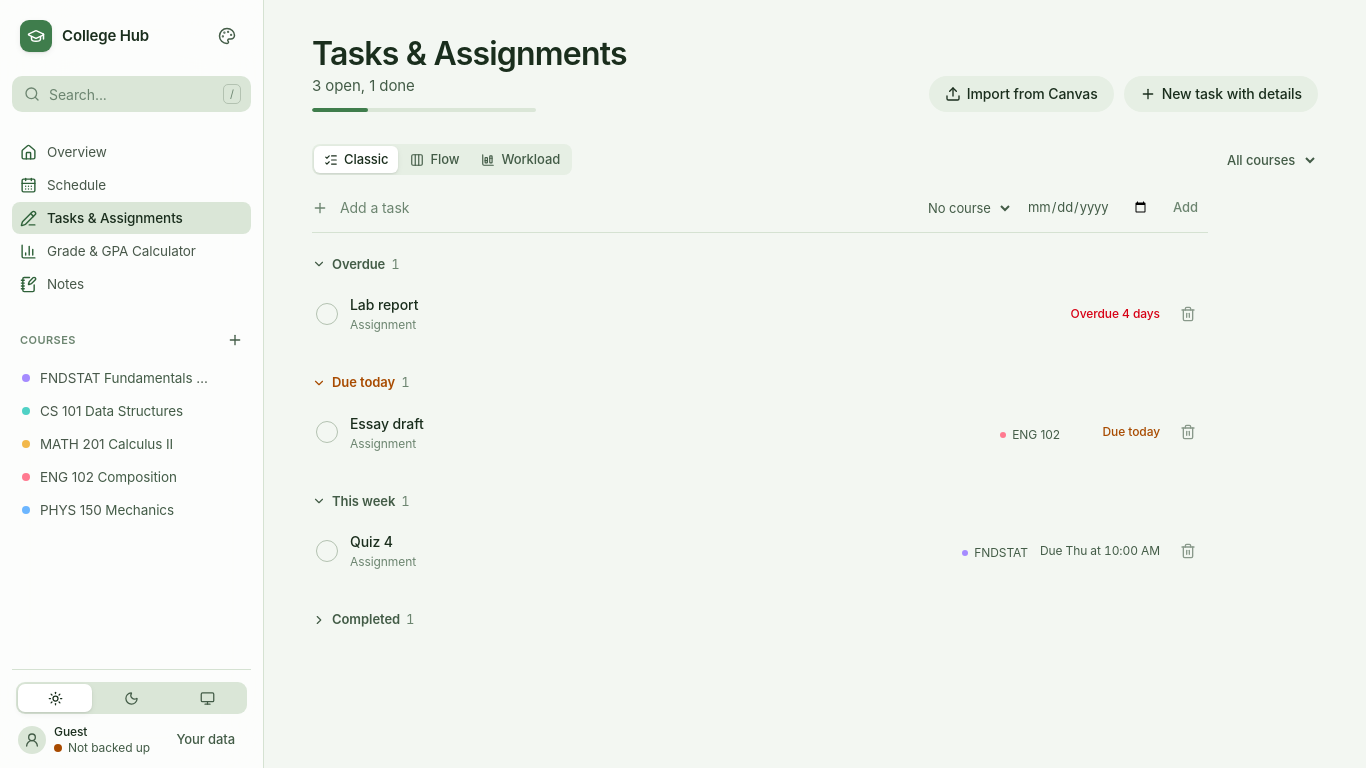
Test: choosing a mode › offers Flow to a guest and remembers the choice
Click the radio button labelled "Flow".
click(435, 160)  # box [400, 146, 469, 173]
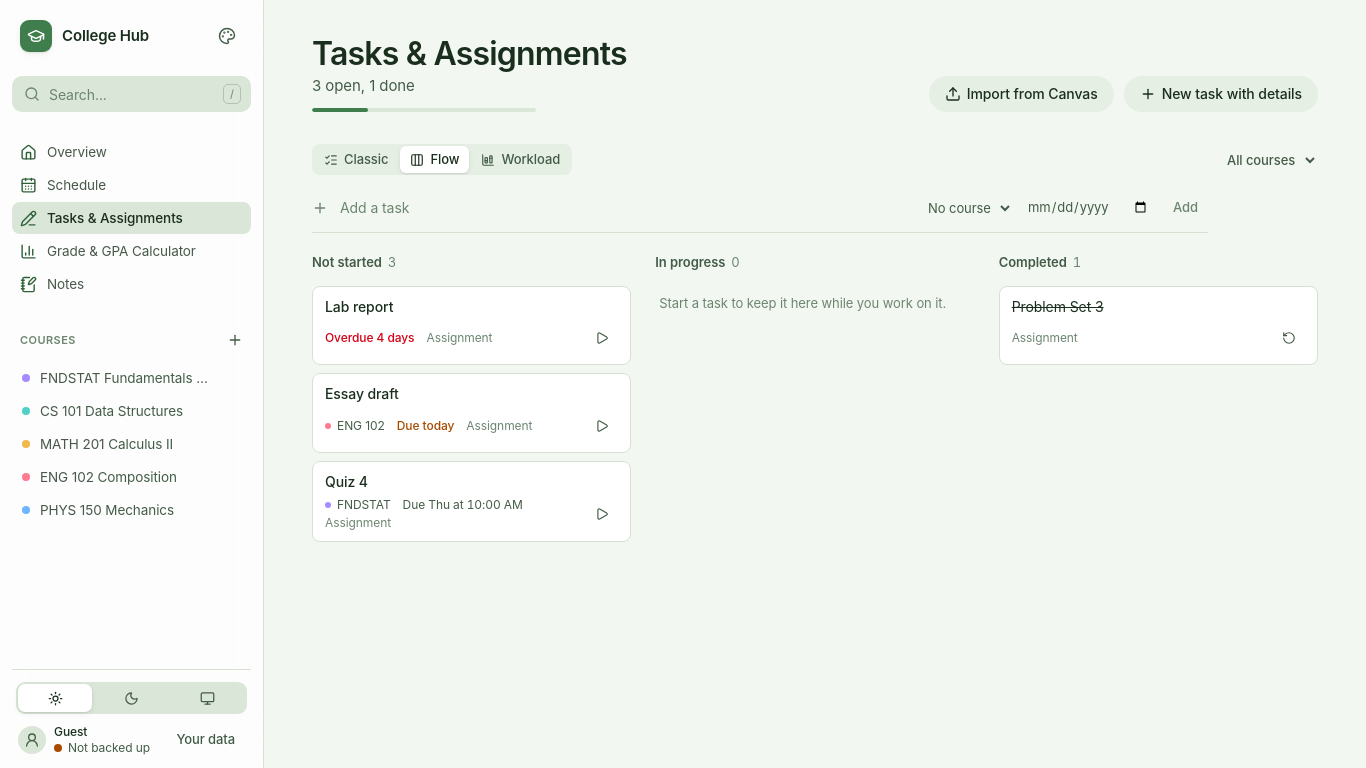
Check: the element "In progress" is shown, box [655, 254, 946, 311]
